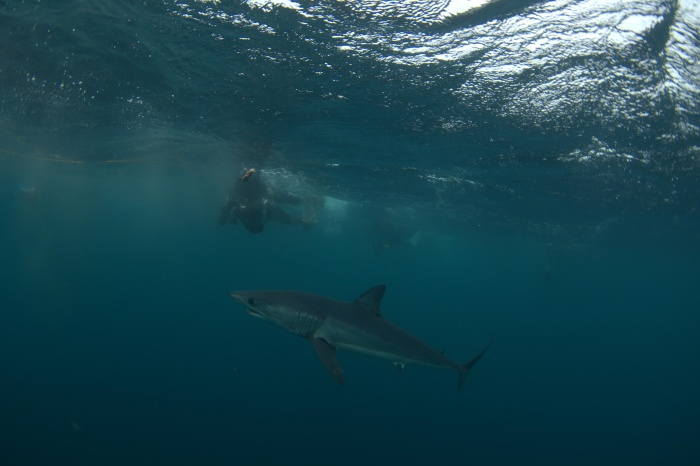Mako: (208, 270, 503, 413)
